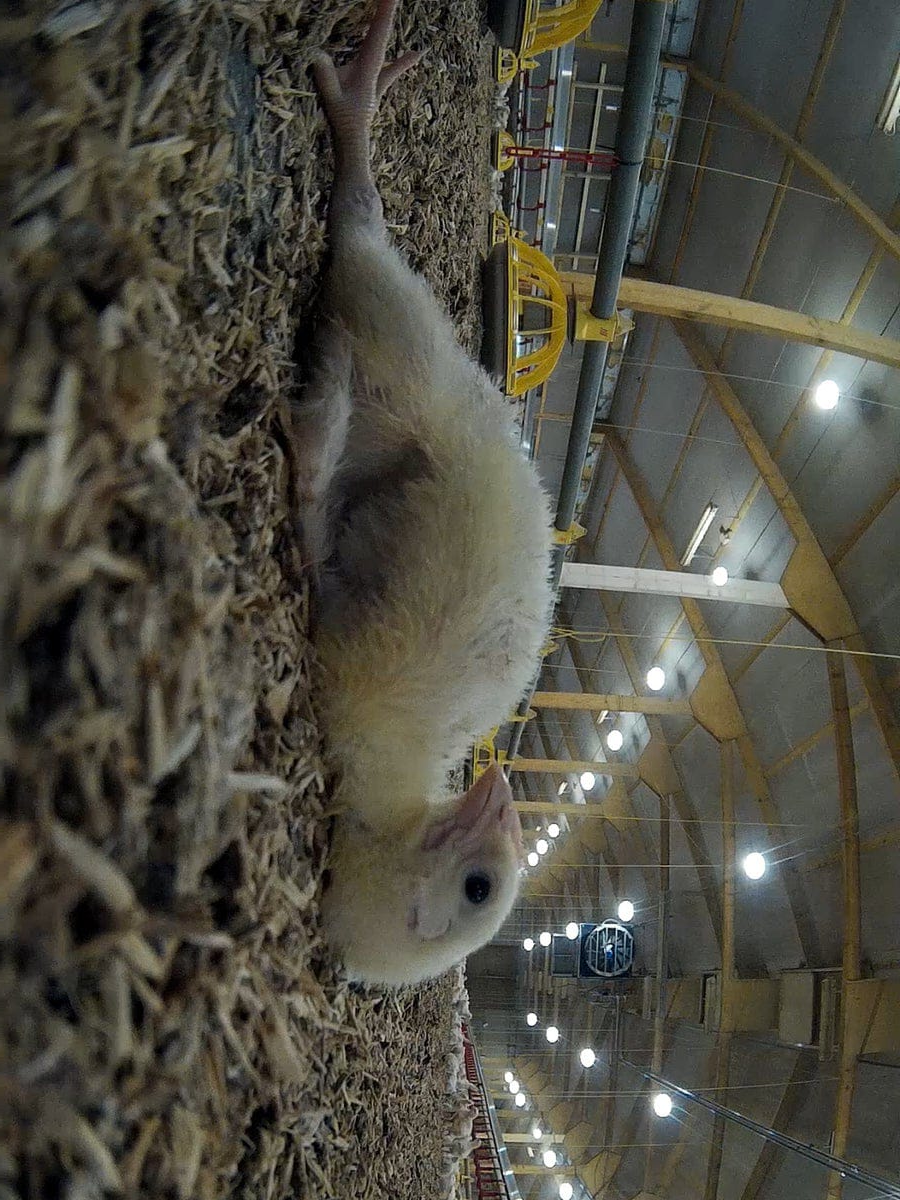Unhealthy: (242, 41, 674, 1005)
